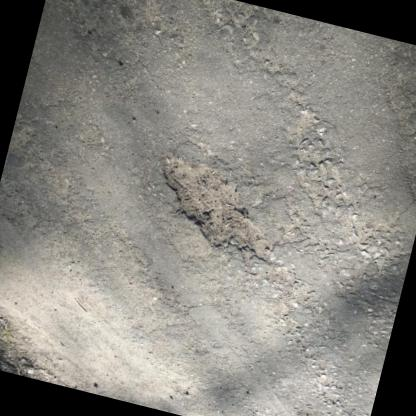pothole: (141, 153, 292, 268)
